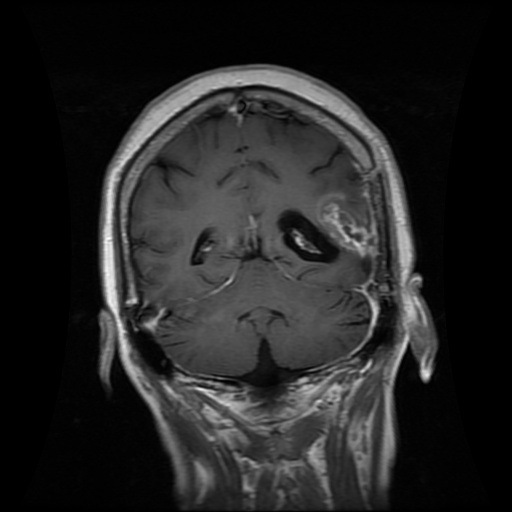glioma: (275, 191, 377, 271)
